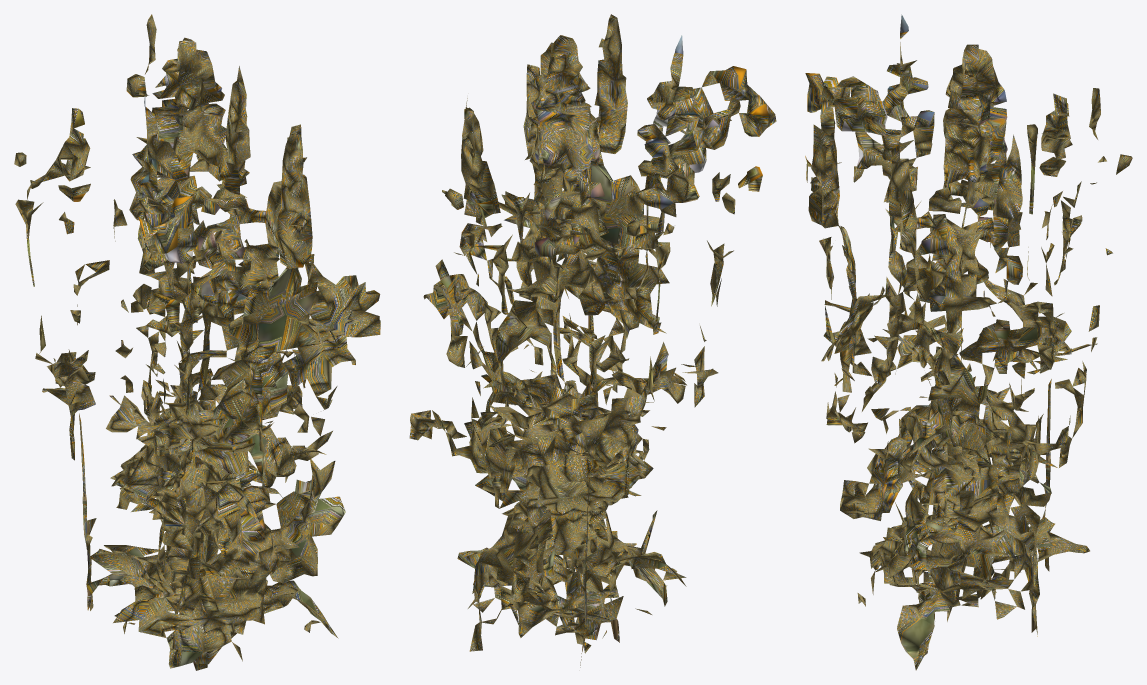
The picture shows the model from 3 angles, left to right: view 1: azimuth 30°, elevation 25°; view 2: azimuth 150°, elevation 25°; view 3: azimuth 270°, elevation 25°; orthographic projection. The views are drawn at different scales.
Bounding box in the file's own units: 0.8695 × 1.89 × 0.9731.
1 material, 1 textured.
